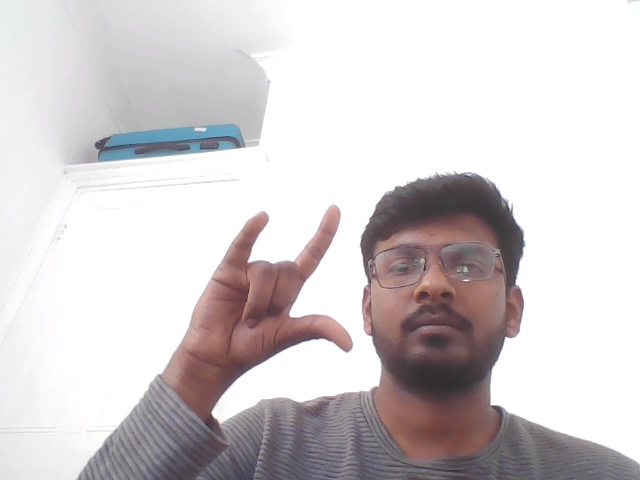ILoveYou: (155, 179, 361, 398)
